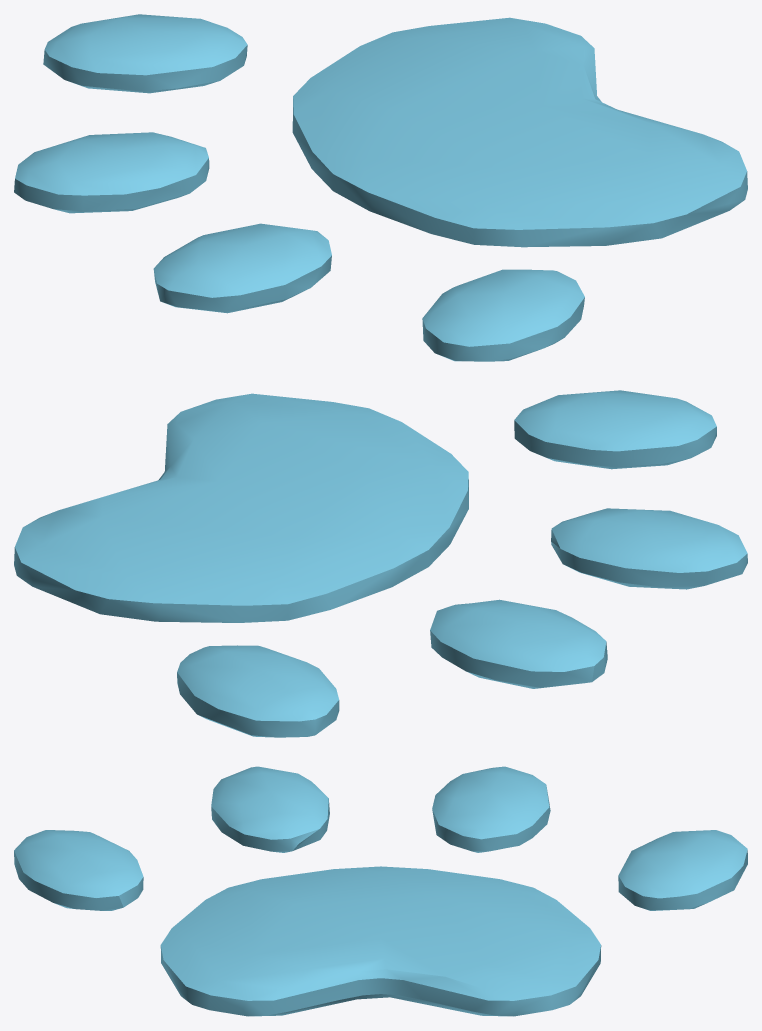
Rendered from plytka_lapka_lp.fbx.
3 renders of one model, top to bottom at view 1: azimuth 30°, elevation 25°; view 2: azimuth 150°, elevation 25°; view 3: azimuth 270°, elevation 25°, orthographic. The views are drawn at different scales.
Parts seen in each view (by area): view 1: plytka_lapka; view 2: plytka_lapka; view 3: plytka_lapka.
Part boxes in pixels (left/top/right/bottom): plytka_lapka: left=14, top=14, right=747, bottom=361; plytka_lapka: left=14, top=390, right=747, bottom=737; plytka_lapka: left=14, top=766, right=747, bottom=1016.
Bounding box in the file's own units: 38.15 × 3.3 × 50.26.
